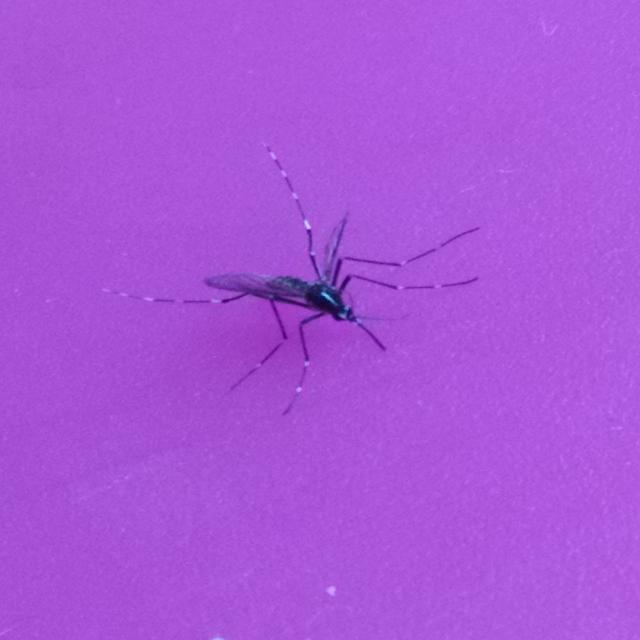albopictus: (112, 142, 485, 416)
